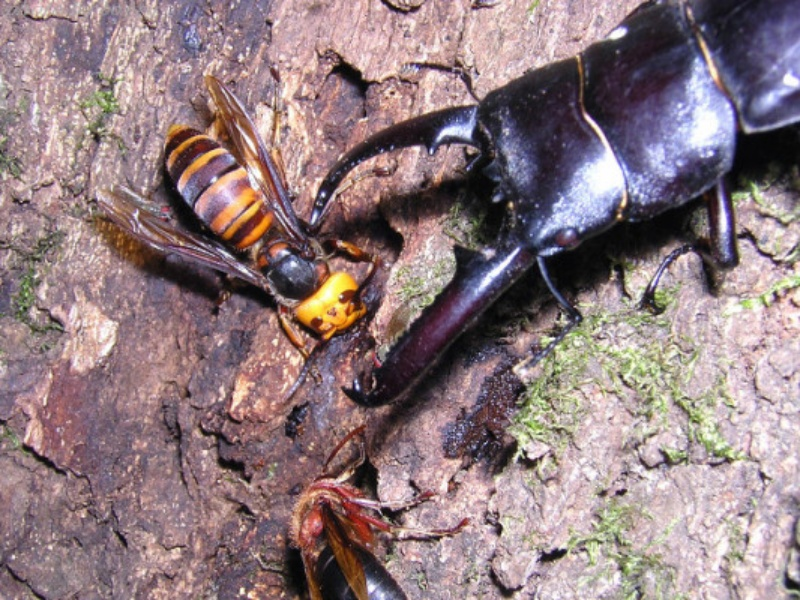asian_giant_hornet: (107, 69, 387, 334)
